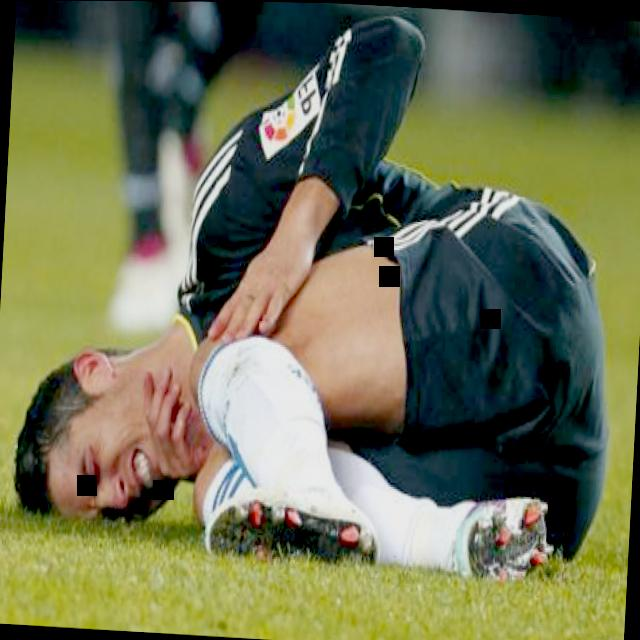Fall-Detected: (2, 0, 640, 629)
